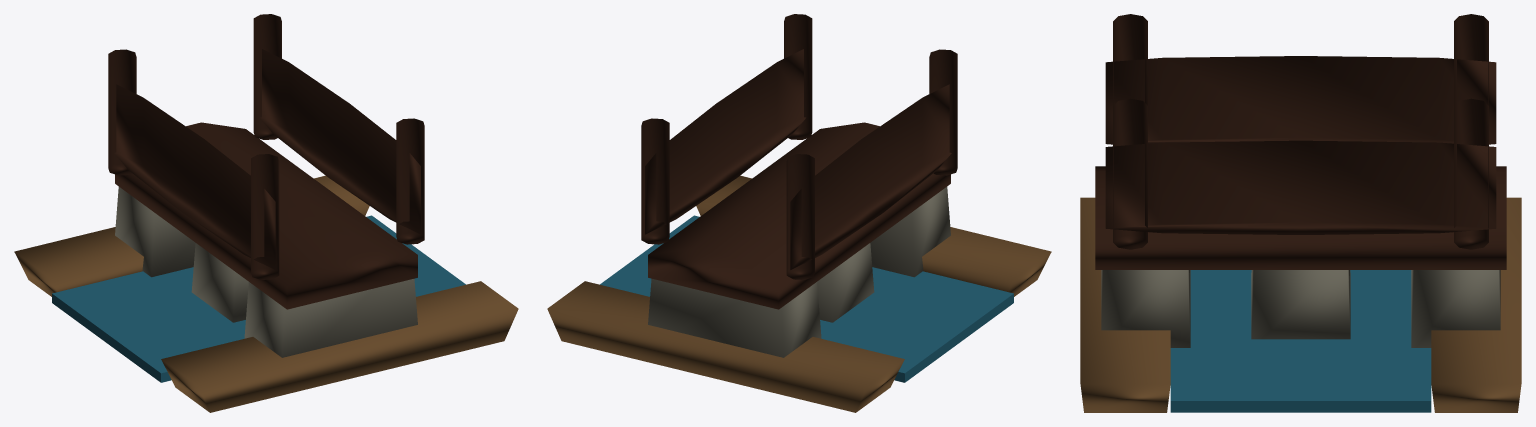
The model's file is R41_HAN_LUOYANG_INFRASTRUCTURE_BRIDGE_TIMBER_STONE_A.fbx.
3 renders of one model, left to right at view 1: azimuth 30°, elevation 25°; view 2: azimuth 150°, elevation 25°; view 3: azimuth 270°, elevation 25°, orthographic. The views are drawn at different scales.
Parts seen in each view (by area): view 1: deck, bank_n, water, rail_w, rail_e, abutment_n, bank_s, abutment_s, post_ne, pier, post_nw, post_se (+1 smaller); view 2: deck, bank_s, water, rail_w, rail_e, abutment_s, bank_n, abutment_n, post_se, pier, post_sw, post_ne (+1 smaller); view 3: rail_w, rail_e, water, deck, bank_n, bank_s, pier, abutment_n, abutment_s, post_nw, post_sw, post_ne (+1 smaller).
Part boxes in pixels (x1,y1,x2,y2): deck: (115,122,417,309); bank_n: (161,281,518,412); water: (52,215,465,382); rail_w: (260,49,420,234); rail_e: (114,84,275,269); abutment_n: (244,279,417,357); bank_s: (14,175,369,296); abutment_s: (115,186,195,277); post_ne: (251,154,279,279); pier: (191,243,248,322); post_nw: (396,118,424,244); post_se: (108,49,136,175); deck: (648,122,950,309); bank_s: (547,281,904,412); water: (600,215,1013,382); rail_w: (645,49,805,234); rail_e: (790,84,951,269); abutment_s: (648,279,821,357); bank_n: (696,175,1051,296); abutment_n: (870,186,950,277); post_se: (786,154,814,279); pier: (817,243,874,322); post_sw: (641,118,669,244); post_ne: (929,49,957,175); rail_w: (1105,140,1496,234); rail_e: (1105,56,1496,144); water: (1170,270,1431,412); deck: (1095,166,1506,269); bank_n: (1080,197,1170,412); bank_s: (1431,197,1521,412); pier: (1251,270,1350,339); abutment_n: (1101,270,1190,347); abutment_s: (1411,270,1500,347); post_nw: (1113,98,1147,249); post_sw: (1454,98,1488,249); post_ne: (1113,14,1147,105).
Size of the model in its own units: 88 by 58 by 88.
